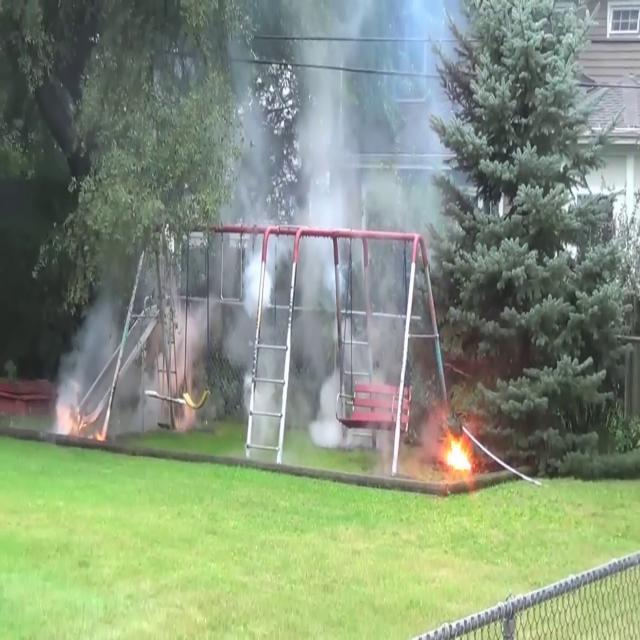Fire: (440, 420, 476, 480)
Smoke: (216, 5, 461, 435), (54, 260, 206, 434)
